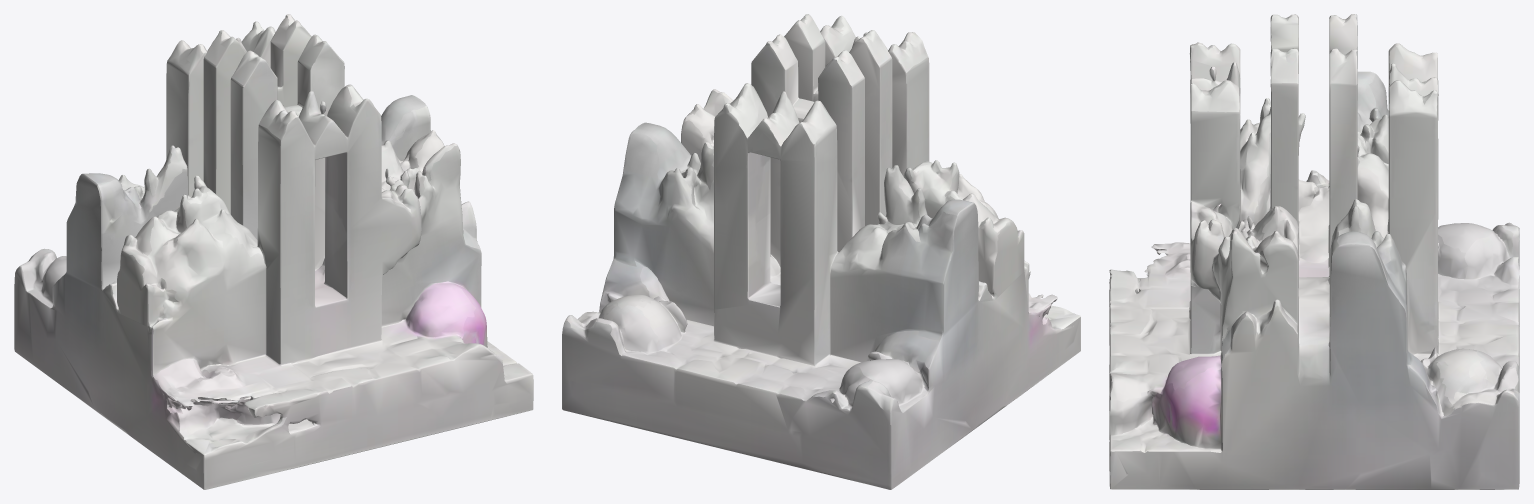
File: bifrost-approach-generated-2026-05-17T17-48-49-995Z.medium.glb
3 views of the same model, side by side, from view 1: azimuth 30°, elevation 25°; view 2: azimuth 150°, elevation 25°; view 3: azimuth 270°, elevation 25° (orthographic). The views are drawn at different scales.
Visible parts, largest first — view 1: temp_mesh.ply; view 2: temp_mesh.ply; view 3: temp_mesh.ply.
Part boxes in pixels (left/top/right/bottom): temp_mesh.ply: left=14, top=14, right=533, bottom=489; temp_mesh.ply: left=562, top=14, right=1080, bottom=489; temp_mesh.ply: left=1109, top=14, right=1519, bottom=489.
Bounding box in the file's own units: 1.97 × 1.97 × 1.98.
Materials: 1 (1 with a texture image).
